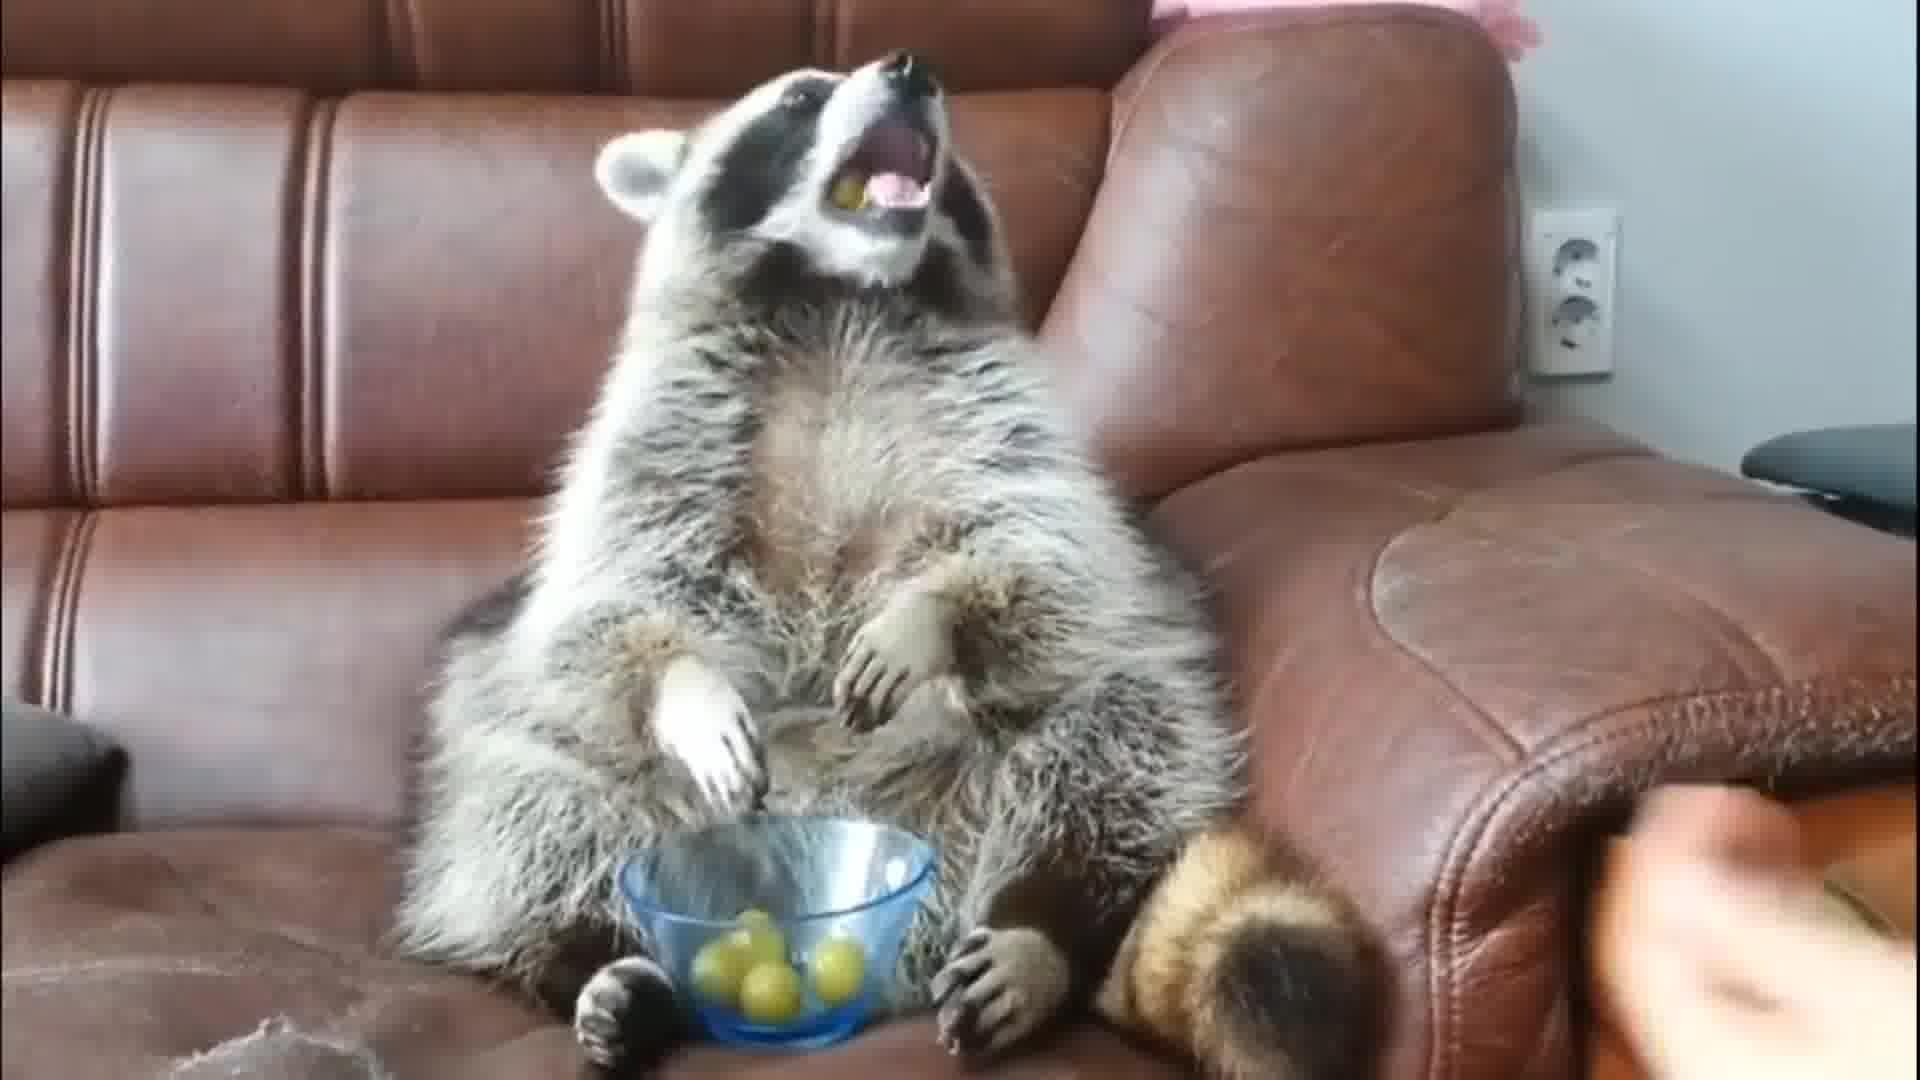raccoon: (378, 57, 1397, 1080)
